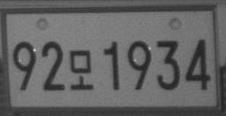1: (100, 40, 124, 91)
2: (40, 40, 65, 91)
3: (155, 40, 180, 90)
4: (184, 38, 211, 91)
9: (126, 39, 152, 90), (11, 40, 37, 90)
모: (68, 49, 93, 90)
